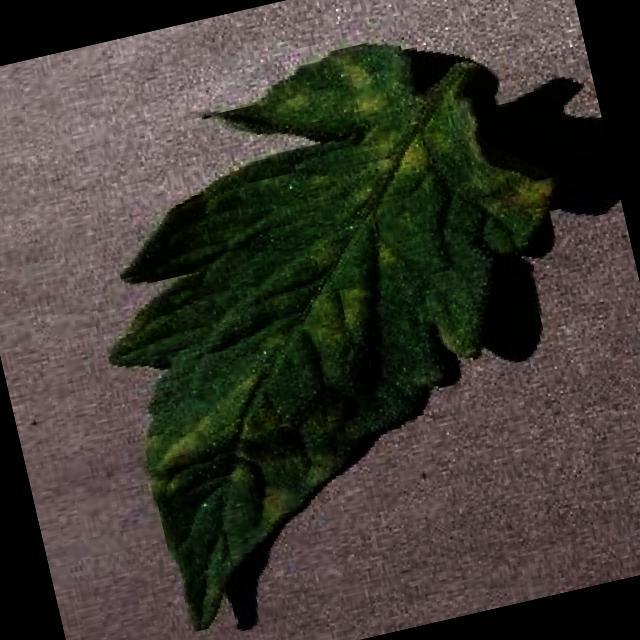Tomato mold leaf: (52, 3, 636, 638)
